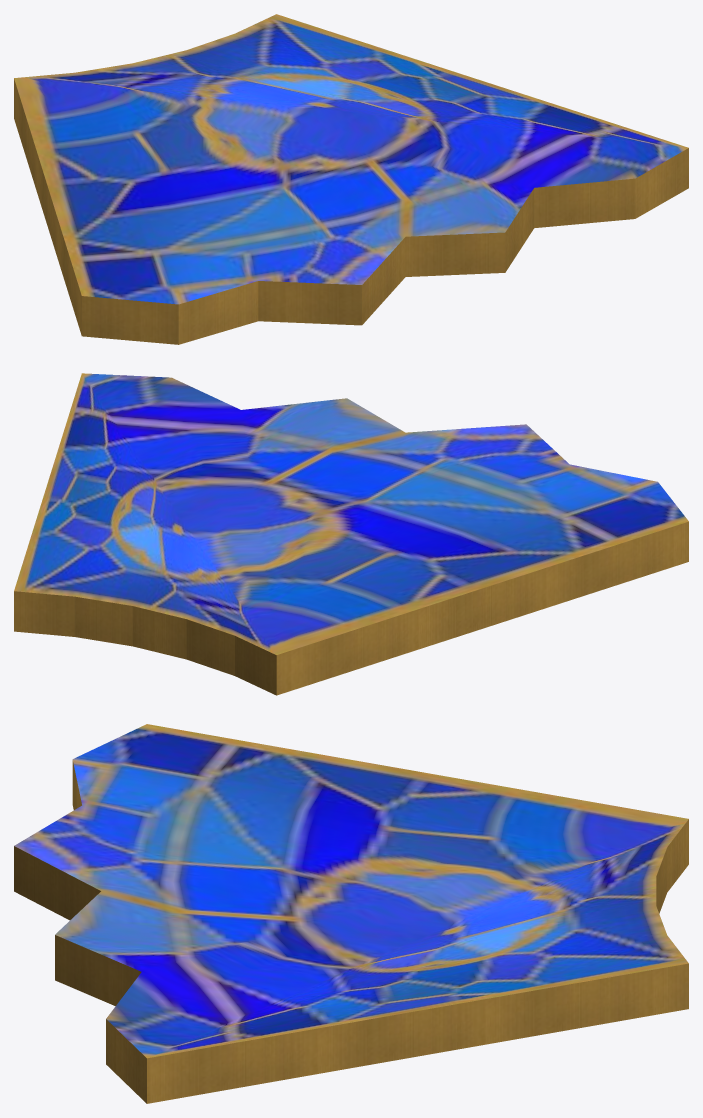
Rendered from lb_chunk_5_0.glb.
3 views of the same model, one above another, from view 1: azimuth 30°, elevation 25°; view 2: azimuth 150°, elevation 25°; view 3: azimuth 270°, elevation 25° (orthographic). The views are drawn at different scales.
Parts seen in each view (by area): view 1: lb_chunk_5_0; view 2: lb_chunk_5_0; view 3: lb_chunk_5_0.
Boxes of the visible parts, x1,y1,x2,y2 form: lb_chunk_5_0: (14,14,688,344); lb_chunk_5_0: (14,373,688,695); lb_chunk_5_0: (14,724,688,1103).
Size of the model in its own units: 5.66 by 0.36 by 4.83.
2 materials, 2 textured.
